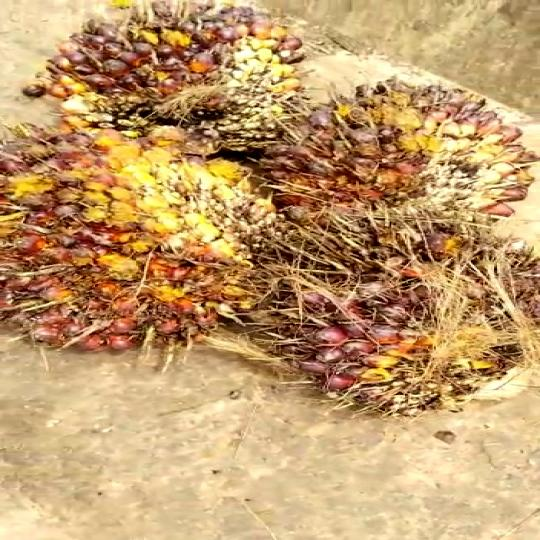masak: (0, 123, 313, 346), (257, 221, 540, 422), (257, 77, 535, 238), (19, 0, 304, 149)
